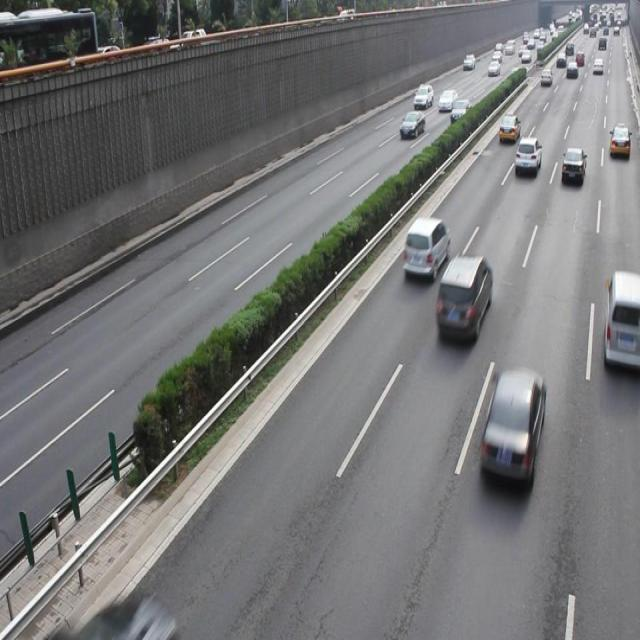car: (478, 367, 545, 486), (434, 253, 492, 340), (402, 214, 448, 281), (513, 136, 541, 176), (560, 146, 585, 185)
truck: (600, 270, 640, 368)
